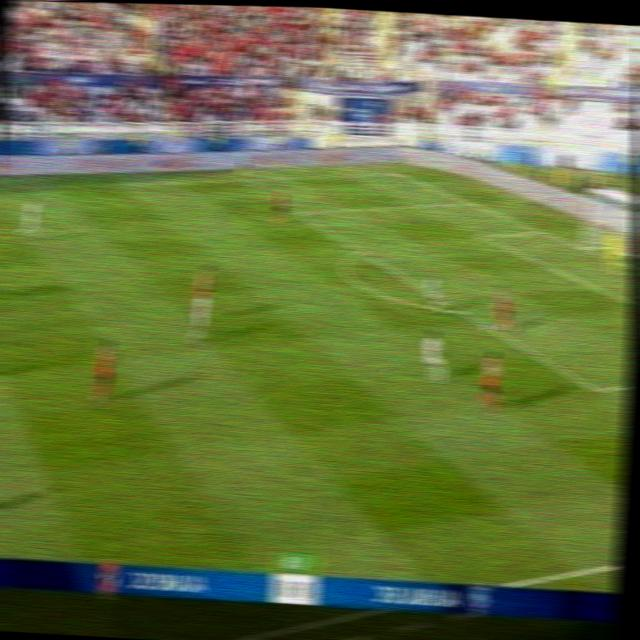bigarea_bottom_inner: (585, 376, 611, 400)
bigarea_top_inner: (289, 204, 308, 219)
bigarea_top_outter: (459, 193, 480, 208)
bottom_arc_area_intersection: (450, 299, 471, 318)
corner: (388, 165, 409, 178)
smallarea_top_inner: (476, 228, 494, 243)
smallarea_top_outter: (532, 222, 552, 238)
top_arc_area_intersection: (353, 242, 371, 257)
